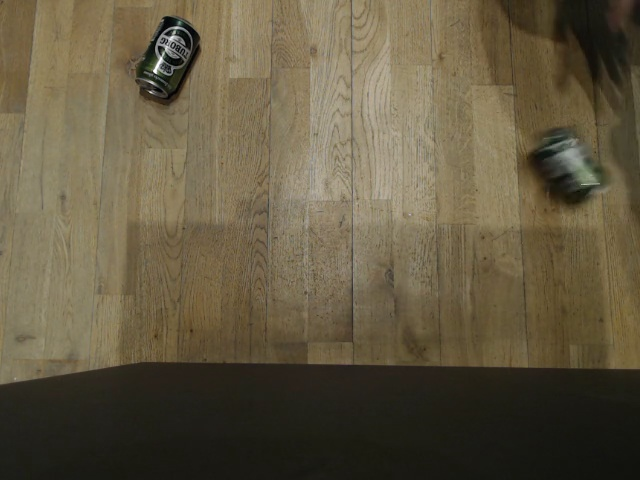beer: (132, 13, 202, 100), (528, 127, 603, 206)
